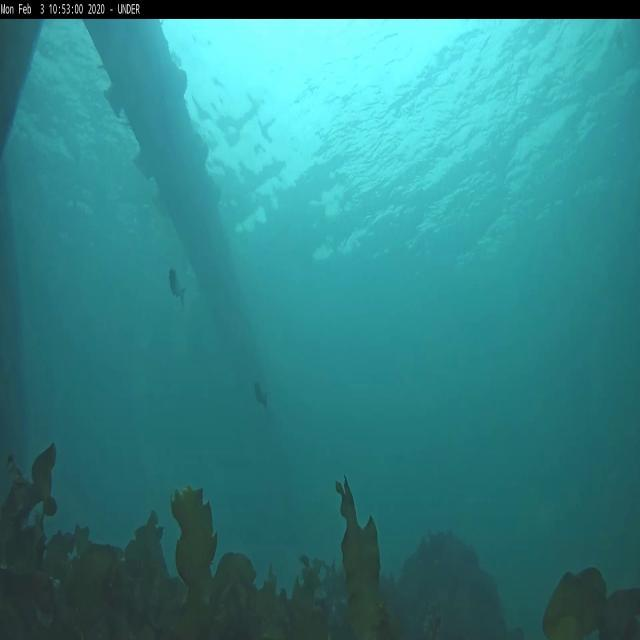fish: (167, 267, 188, 311), (253, 379, 270, 412)
